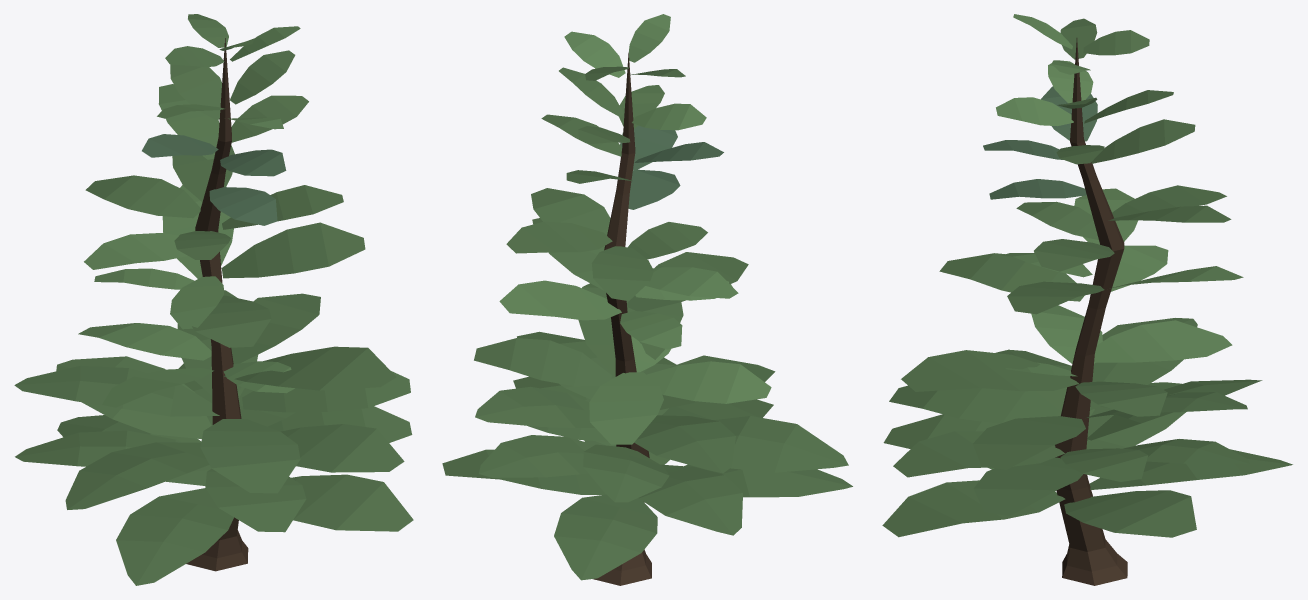
Rendered from tree1.fbx.
3 renders of one model, left to right at view 1: azimuth 30°, elevation 25°; view 2: azimuth 150°, elevation 25°; view 3: azimuth 270°, elevation 25°, orthographic. The views are drawn at different scales.
Visible parts, largest first — view 1: Cylinder.002; view 2: Cylinder.002; view 3: Cylinder.002.
Boxes of the visible parts, x1=… form: Cylinder.002: x1=14, y1=14, x2=413, y2=585; Cylinder.002: x1=442, y1=14, x2=852, y2=585; Cylinder.002: x1=882, y1=14, x2=1292, y2=585.
Bounding box in the file's own units: 580 × 875 × 592.
